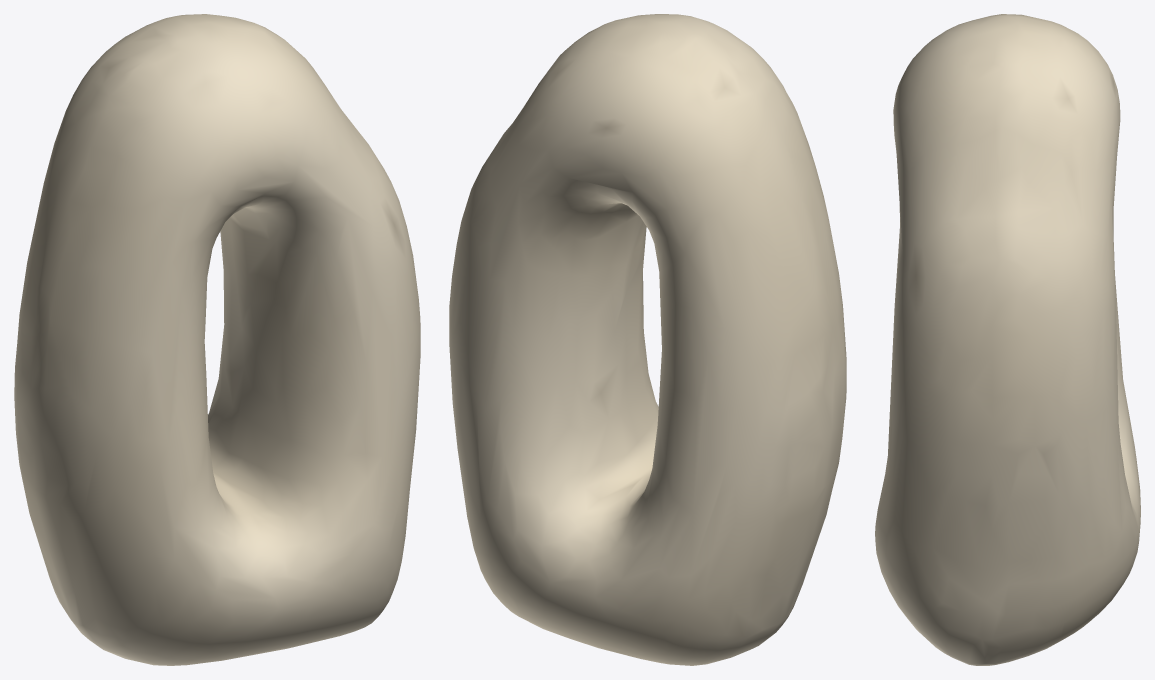
The model's file is lumen_vez_bila.glb.
The picture shows the model from 3 angles, left to right: view 1: azimuth 30°, elevation 25°; view 2: azimuth 150°, elevation 25°; view 3: azimuth 270°, elevation 25°; orthographic projection. The views are drawn at different scales.
Parts seen in each view (by area): view 1: Lumen vez bila; view 2: Lumen vez bila; view 3: Lumen vez bila.
Part boxes in pixels (box(x1,y1,x2,y2)): Lumen vez bila: box(14, 14, 420, 665); Lumen vez bila: box(449, 14, 846, 665); Lumen vez bila: box(875, 14, 1140, 665).
Bounding box in the file's own units: 0.0331 × 0.0537 × 0.0225.
